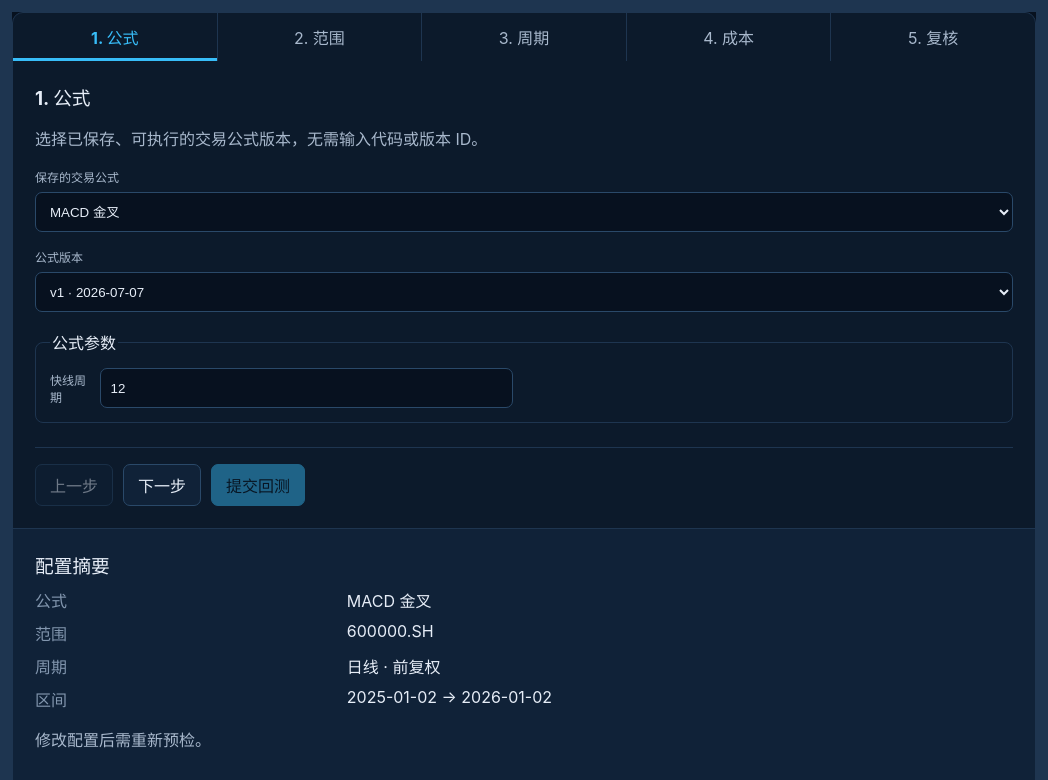
rejects hidden parameters not declared by the selected immutable version
Step 1. Click the button "5. 复核" → (933, 37), box [831,13,1035,61]
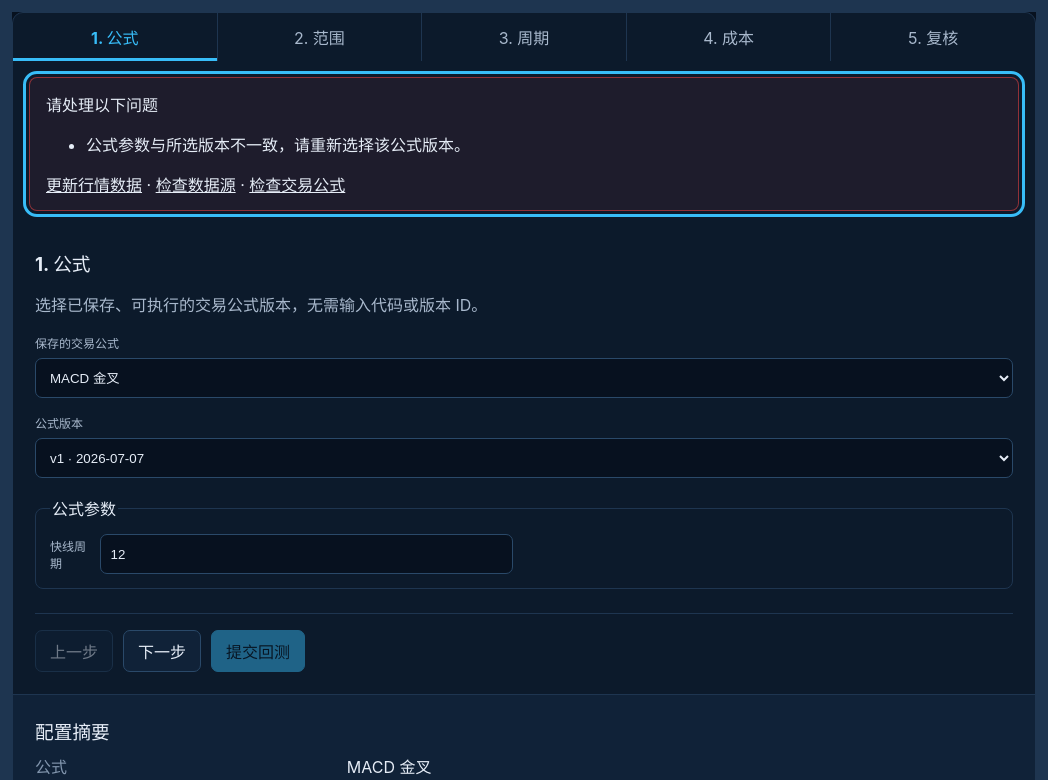
Expected: the button "提交回测" is disabled, [211,630,305,672]
Now the message shows "公式参数与所选版本不一致", box [86,135,470,155]
